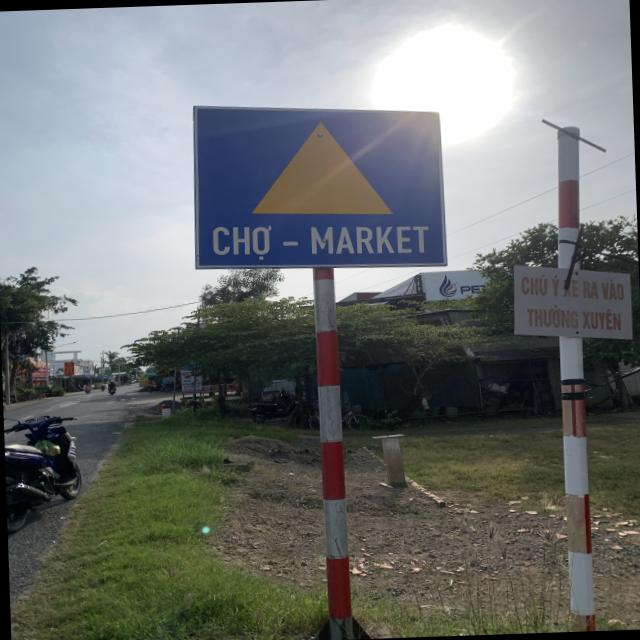Cho_Quay_Xe: (192, 99, 446, 273)
